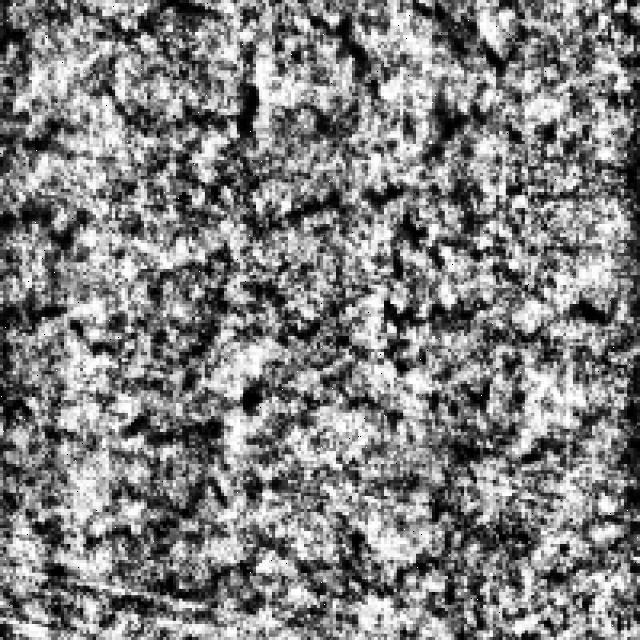Pitted_Surface: (220, 0, 532, 269)
